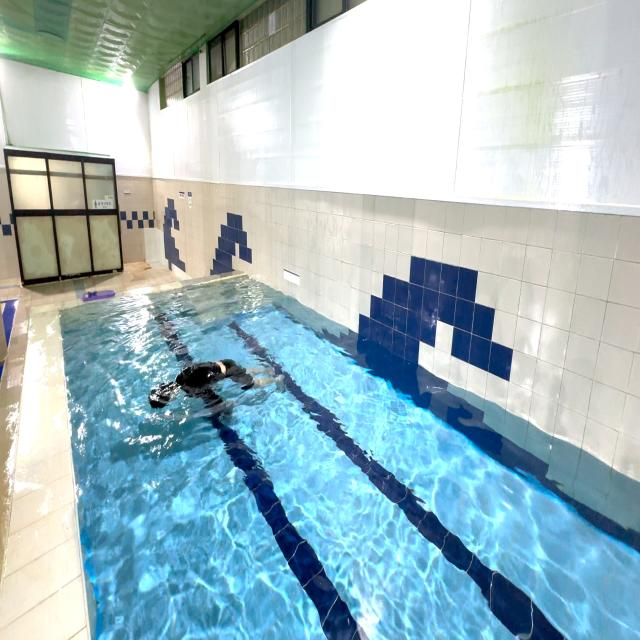Drowning: (144, 346, 288, 418)
